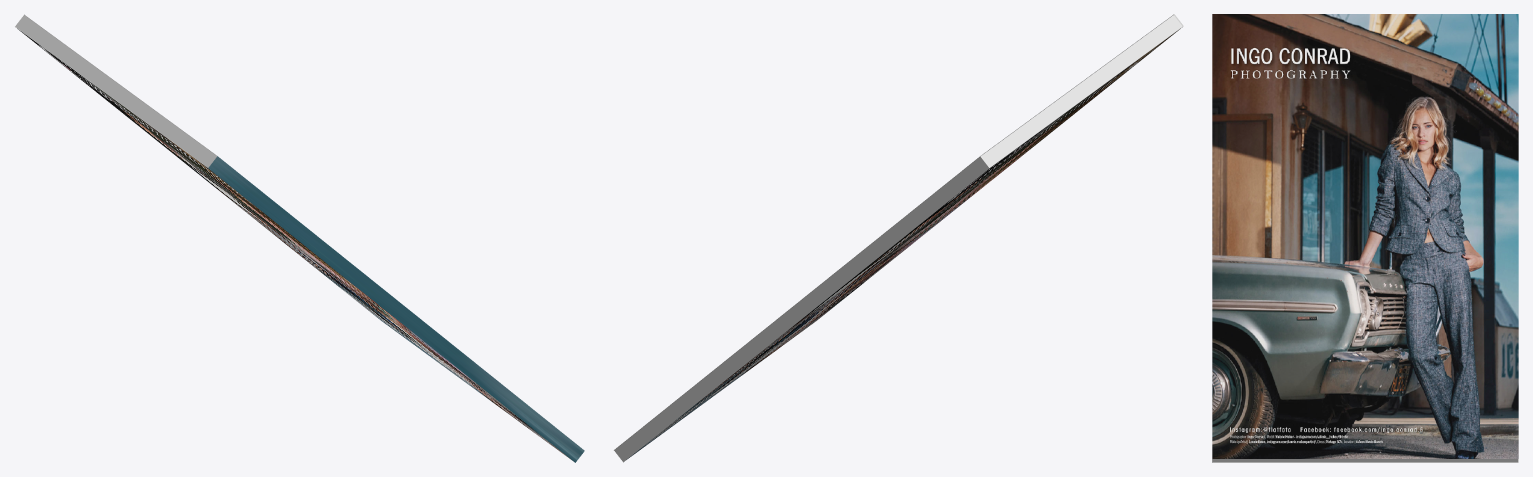
Rendered from letter-magazine-g2.glb.
The picture shows the model from 3 angles, left to right: view 1: azimuth 30°, elevation 25°; view 2: azimuth 150°, elevation 25°; view 3: azimuth 270°, elevation 25°; orthographic projection. The views are drawn at different scales.
Visible parts, largest first — view 1: Cube; view 2: Cube; view 3: Cube.
Part boxes in pixels (x1,y1,x2,y2): Cube: [15, 14, 584, 462]; Cube: [614, 14, 1183, 462]; Cube: [1212, 14, 1518, 462].
Size of the model in its own units: 0.6263 by 0.6263 by 0.5588.
Materials: 2 (1 with a texture image).
